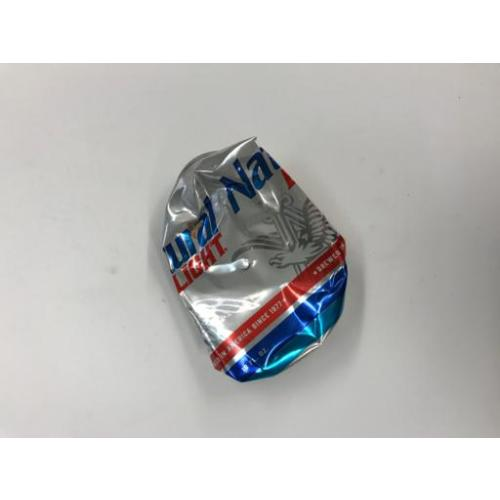metal: (164, 137, 346, 382)
